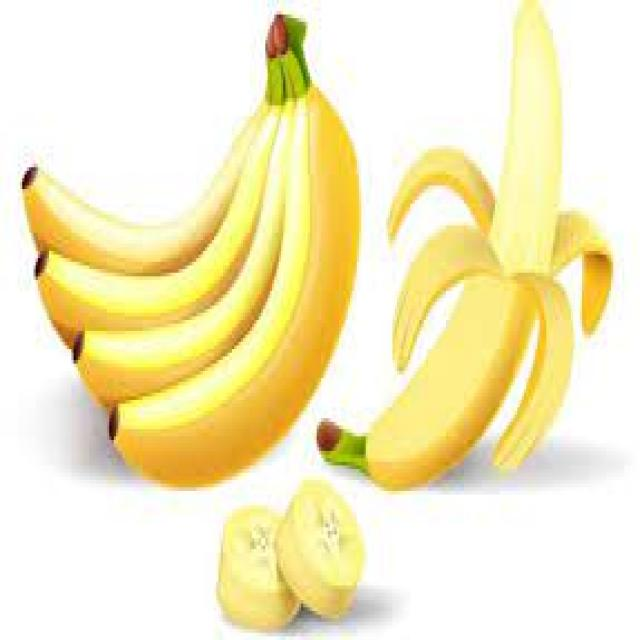banana: (20, 8, 361, 488), (314, 0, 614, 491)
